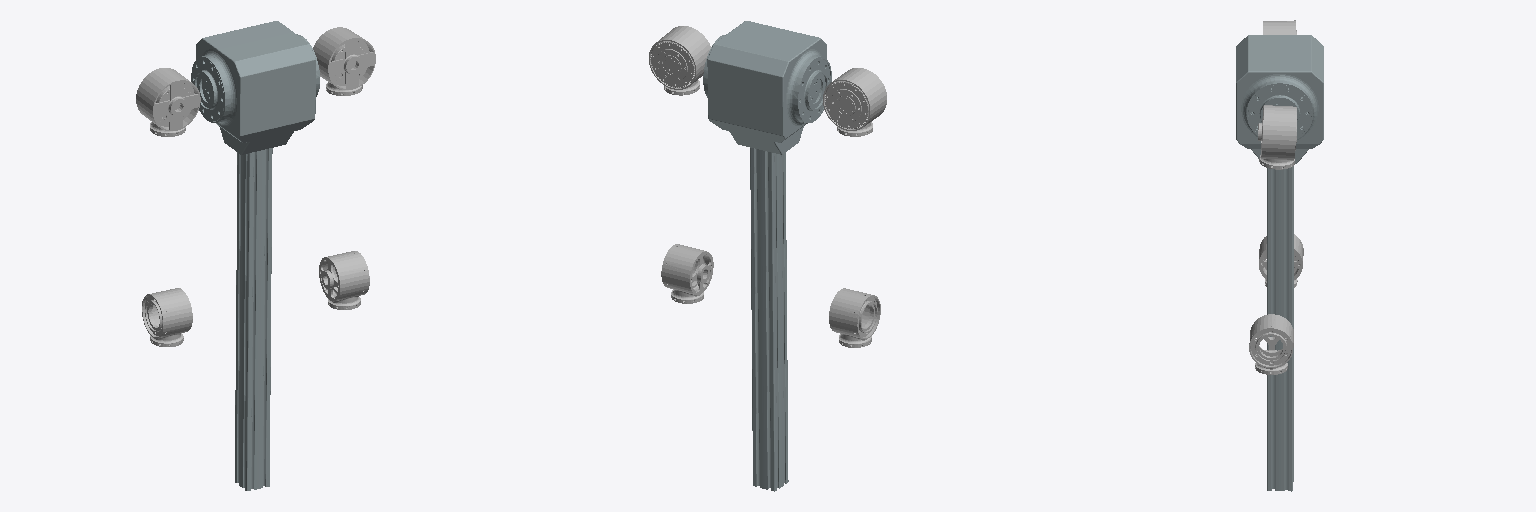
robot.urdf — arha_description:
<?xml version="1.0" encoding="utf-8"?>
<!-- This URDF was automatically created by SolidWorks to URDF Exporter! Originally created by [author] ([email redacted]) 
     Commit Version: 1.6.0-4-g7f85cfe  Build Version: 1.6.7995.38578
     For more information, please see http://wiki.ros.org/sw_urdf_exporter -->
<robot
  name="arha_description">
  <link name="world_link"/>
  <joint name="world_joint" type="fixed">
    <parent link="world_link"/>
    <child link="base_link"/>
    <origin xyz="0 0 0" rpy="0 0 0"/>
  </joint>
  <link
    name="base_link">
    <inertial>
      <origin
        xyz="0.00486222622577581 0.45717497743252 -0.0249847706754774"
        rpy="0 0 0" />
      <mass
        value="50.0" />
      <inertia
        ixx="0.045250217381864"
        ixy="-0.000391647507311458"
        ixz="-1.16032760425876E-18"
        iyy="0.000375276048602199"
        iyz="-9.77511439648212E-18"
        izz="0.0452536352378809" />
    </inertial>
    <visual>
      <origin
        xyz="0 0 0"
        rpy="0 0 0" />
      <geometry>
        <mesh
          filename="package://arha_description/meshes/base_link.STL" />
      </geometry>
      <material
        name="">
        <color
          rgba="0.611764705882353 0.658823529411765 0.670588235294118 1" />
      </material>
    </visual>
    <collision>
      <origin
        xyz="0 0 0"
        rpy="0 0 0" />
      <geometry>
        <mesh
          filename="package://arha_description/meshes/base_link.STL" />
      </geometry>
    </collision>
  </link>
  <link
    name="chest_link">
    <inertial>
      <origin
        xyz="-0.103578651729946 -0.000788072396643393 -0.0161664731766626"
        rpy="0 0 0" />
      <mass
        value="1.36841316789851" />
      <inertia
        ixx="0.00489050738637658"
        ixy="-1.05236493836224E-06"
        ixz="3.5996291040505E-07"
        iyy="0.00618645338476801"
        iyz="9.75907806329965E-05"
        izz="0.00331113448739452" />
    </inertial>
    <visual>
      <origin
        xyz="0.0 0 0"
        rpy="0 0 0" />
      <geometry>
        <mesh
          filename="package://arha_description/meshes/chest_link.STL" />
      </geometry>
      <material
        name="">
        <color
          rgba="0.611764705882353 0.658823529411765 0.670588235294118 1" />
      </material>
    </visual>
    <collision>
      <origin
        xyz="0 0 0"
        rpy="0 0 0" />
      <geometry>
        <mesh
          filename="package://arha_description/meshes/chest_link.STL" />
      </geometry>
    </collision>
  </link>
  <joint
    name="chest_joint"
    type="fixed">
    <origin
      xyz="0.11179 0.024169 0.84302"
      rpy="0 0.0087266 0" />
    <parent
      link="base_link" />
    <child
      link="chest_link" />
    <axis
      xyz="0 0 0" />
  </joint>
  <link
    name="ShoulderLU_link">
    <inertial>
      <origin
        xyz="0.000633904495236731 0.058299543463125 0.000131520562804743"
        rpy="0 0 0" />
      <mass
        value="0.437859352194871" />
      <inertia
        ixx="0.000761320903843758"
        ixy="0.00010323291028103"
        ixz="5.11545981553644E-05"
        iyy="0.000480494506076569"
        iyz="3.0858569436463E-05"
        izz="0.000607510740265925" />
    </inertial>
    <visual>
      <origin
        xyz="0 0 0"
        rpy="0 0 0" />
      <geometry>
        <mesh
          filename="package://arha_description/meshes/ShoulderLU_link.STL" />
      </geometry>
      <material
        name="">
        <color
          rgba="0.752941176470588 0.752941176470588 0.752941176470588 1" />
      </material>
    </visual>
    <collision>
      <origin
        xyz="0 0 0"
        rpy="0 0 0" />
      <geometry>
        <mesh
          filename="package://arha_description/meshes/ShoulderLU_link.STL" />
      </geometry>
    </collision>
  </link>
  <joint
    name="ShoulderLU_joint"
    type="revolute">
    <origin
      xyz="0 0 0"
      rpy="0 0.24056 -1.5708" />
    <parent
      link="chest_link" />
    <child
      link="ShoulderLU_link" />
    <axis
      xyz="0 1 0" />
    <limit
      lower="-1.5708"
      upper="1.5708"
      effort="100"
      velocity="5.235988" />
  </joint>
  <link
    name="ShoulderLD_link">
    <inertial>
      <origin
        xyz="0.0130996516559233 4.03562806224889E-05 -0.0159486004121393"
        rpy="0 0 0" />
      <mass
        value="0.121271829639387" />
      <inertia
        ixx="0.000264584076158386"
        ixy="-1.73910116146315E-07"
        ixz="2.35095880421902E-05"
        iyy="0.000215361369893302"
        iyz="2.22793553735259E-08"
        izz="0.000144313566720507" />
    </inertial>
    <visual>
      <origin
        xyz="0 0 0"
        rpy="0 0 0" />
      <geometry>
        <mesh
          filename="package://arha_description/meshes/ShoulderLD_link.STL" />
      </geometry>
      <material
        name="">
        <color
          rgba="0.752941176470588 0.752941176470588 0.752941176470588 1" />
      </material>
    </visual>
    <collision>
      <origin
        xyz="0 0 0"
        rpy="0 0 0" />
      <geometry>
        <mesh
          filename="package://arha_description/meshes/ShoulderLD_link.STL" />
      </geometry>
    </collision>
  </link>
  <joint
    name="ShoulderLD_joint"
    type="revolute">
    <origin
      xyz="0 0.086954 0"
      rpy="0.0052522 0 0.0015918" />
    <parent
      link="ShoulderLU_link" />
    <child
      link="ShoulderLD_link" />
    <axis
      xyz="0.95701 0 0.29004" />
    <limit
      lower="0"
      upper="1.5708"
      effort="60"
      velocity="4.1888" />
  </joint>
  <link
    name="ElbowLU_link">
    <inertial>
      <origin
        xyz="0.0523700637070466 0.00121630077779727 -0.165628058836482"
        rpy="0 0 0" />
      <mass
        value="0.435431174027291" />
      <inertia
        ixx="0.00116072679569384"
        ixy="8.04355925173392E-06"
        ixz="0.000205352161683031"
        iyy="0.00150791942538621"
        iyz="4.82172912105246E-07"
        izz="0.000545520164122057" />
    </inertial>
    <visual>
      <origin
        xyz="0 0 0"
        rpy="0 0 0" />
      <geometry>
        <mesh
          filename="package://arha_description/meshes/ElbowLU_link.STL" />
      </geometry>
      <material
        name="">
        <color
          rgba="0.752941176470588 0.752941176470588 0.752941176470588 1" />
      </material>
    </visual>
    <collision>
      <origin
        xyz="0 0 0"
        rpy="0 0 0" />
      <geometry>
        <mesh
          filename="package://arha_description/meshes/ElbowLU_link.STL" />
      </geometry>
    </collision>
  </link>
  <joint
    name="ElbowLU_joint"
    type="revolute">
    <origin
      xyz="0 0 0"
      rpy="0.00062146 0 -0.0020506" />
    <parent
      link="ShoulderLD_link" />
    <child
      link="ElbowLU_link" />
    <axis
      xyz="0.29004 -0.0015904 -0.95701" />
    <limit
      lower="-1.5708"
      upper="1.5708"
      effort="20"
      velocity="19.897" />
  </joint>
  <link
    name="ElbowLD_link">
    <inertial>
      <origin
        xyz="0.0150145603137214 -0.0141079237505648 -0.053785235661527"
        rpy="0 0 0" />
      <mass
        value="0.405367875717028" />
      <inertia
        ixx="0.00067624701220466"
        ixy="5.55177260579747E-06"
        ixz="6.42141098567194E-05"
        iyy="0.000879406227076063"
        iyz="4.50678130640547E-06"
        izz="0.000469982856451293" />
    </inertial>
    <visual>
      <origin
        xyz="0 0 0"
        rpy="0 0 0" />
      <geometry>
        <mesh
          filename="package://arha_description/meshes/ElbowLD_link.STL" />
      </geometry>
      <material
        name="">
        <color
          rgba="0.752941176470588 0.752941176470588 0.752941176470588 1" />
      </material>
    </visual>
    <collision>
      <origin
        xyz="0 0 0"
        rpy="0 0 0" />
      <geometry>
        <mesh
          filename="package://arha_description/meshes/ElbowLD_link.STL" />
      </geometry>
    </collision>
  </link>
  <joint
    name="ElbowLD_joint"
    type="revolute">
    <origin
      xyz="0.075262 -0.00045791 -0.2413"
      rpy="0.0011286 0.042027 0.00029402" />
    <parent
      link="ElbowLU_link" />
    <child
      link="ElbowLD_link" />
    <axis
      xyz="0.026692 0.99962 0.0064283" />
    <limit
      lower="-1.5708"
      upper="0"
      effort="60"
      velocity="4.1888" />
  </joint>
  <link
    name="WristLU_link">
    <inertial>
      <origin
        xyz="0.00639011818127691 0.000136393365235563 0.0551589170384083"
        rpy="0 0 0" />
      <mass
        value="0.348222374397224" />
      <inertia
        ixx="0.000507501720144092"
        ixy="1.11372011938532E-07"
        ixz="-9.14391421597536E-05"
        iyy="0.000436522295309841"
        iyz="3.98574321726627E-07"
        izz="0.00026692664813503" />
    </inertial>
    <visual>
      <origin
        xyz="0 0 0"
        rpy="0 0 0" />
      <geometry>
        <mesh
          filename="package://arha_description/meshes/WristLU_link.STL" />
      </geometry>
      <material
        name="">
        <color
          rgba="0.752941176470588 0.752941176470588 0.752941176470588 1" />
      </material>
    </visual>
    <collision>
      <origin
        xyz="0 0 0"
        rpy="0 0 0" />
      <geometry>
        <mesh
          filename="package://arha_description/meshes/WristLU_link.STL" />
      </geometry>
    </collision>
  </link>
  <joint
    name="WristLU_joint"
    type="revolute">
    <origin
      xyz="0.033161 -0.0056591 -0.11391"
      rpy="2.8571 -0.0068914 1.5425" />
    <parent
      link="ElbowLD_link" />
    <child
      link="WristLU_link" />
    <axis
      xyz="0 0 1" />
    <limit
      lower="-1.5708"
      upper="1.5708"
      effort="20"
      velocity="19.897" />
  </joint>
  <link
    name="WristLD_link">
    <inertial>
      <origin
        xyz="-0.000789165657556684 0.000668276784951023 0.0143918198387223"
        rpy="0 0 0" />
      <mass
        value="0.144157848422193" />
      <inertia
        ixx="0.0002107185858156"
        ixy="-6.96875325623027E-07"
        ixz="-1.50110185661794E-05"
        iyy="0.000173165669857294"
        iyz="-2.62309617895709E-06"
        izz="0.000116799342666003" />
    </inertial>
    <visual>
      <origin
        xyz="0 0 0"
        rpy="0 0 0" />
      <geometry>
        <mesh
          filename="package://arha_description/meshes/WristLD_link.STL" />
      </geometry>
      <material
        name="">
        <color
          rgba="0.752941176470588 0.752941176470588 0.752941176470588 1" />
      </material>
    </visual>
    <collision>
      <origin
        xyz="0 0 0"
        rpy="0 0 0" />
      <geometry>
        <mesh
          filename="package://arha_description/meshes/WristLD_link.STL" />
      </geometry>
    </collision>
  </link>
  <joint
    name="WristLD_joint"
    type="revolute">
    <origin
      xyz="0 0 0.075065"
      rpy="0.036631 0 0" />
    <parent
      link="WristLU_link" />
    <child
      link="WristLD_link" />
    <axis
      xyz="1 0 0" />
    <limit
      lower="-1.5708"
      upper="1.5708"
      effort="8"
      velocity="32.463124" />
  </joint>
  <link
    name="ShoulderRU_link">
    <inertial>
      <origin
        xyz="0.000633904463091112 0.0632876622043777 0.000131520545503583"
        rpy="0 0 0" />
      <mass
        value="0.437859351944568" />
      <inertia
        ixx="0.000761320903037865"
        ixy="0.00010323291048724"
        ixz="5.11545980849188E-05"
        iyy="0.000480494505765443"
        iyz="3.08585694704881E-05"
        izz="0.000607510739616738" />
    </inertial>
    <visual>
      <origin
        xyz="0 0 0"
        rpy="0 0 0" />
      <geometry>
        <mesh
          filename="package://arha_description/meshes/ShoulderRU_link.STL" />
      </geometry>
      <material
        name="">
        <color
          rgba="0.752941176470588 0.752941176470588 0.752941176470588 1" />
      </material>
    </visual>
    <collision>
      <origin
        xyz="0 0 0"
        rpy="0 0 0" />
      <geometry>
        <mesh
          filename="package://arha_description/meshes/ShoulderRU_link.STL" />
      </geometry>
    </collision>
  </link>
  <joint
    name="ShoulderRU_joint"
    type="revolute">
    <origin
      xyz="-0.20263 0.0018367 0"
      rpy="3.1416 -0.28499 -1.5708" />
    <parent
      link="chest_link" />
    <child
      link="ShoulderRU_link" />
    <axis
      xyz="0 1 0" />
    <limit
      lower="-1.5708"
      upper="1.5708"
      effort="100"
      velocity="5.235988" />
  </joint>
  <link
    name="ShoulderRD_link">
    <inertial>
      <origin
        xyz="0.0130603185121422 4.03570967780209E-05 -0.0159605216469788"
        rpy="0 0 0" />
      <mass
        value="0.121271833885802" />
      <inertia
        ixx="0.000264584071728155"
        ixy="-1.73910560956384E-07"
        ixz="2.35095904760613E-05"
        iyy="0.0002153613724785"
        iyz="2.22817405287246E-08"
        izz="0.000144313566137142" />
    </inertial>
    <visual>
      <origin
        xyz="0 0 0"
        rpy="0 0 0" />
      <geometry>
        <mesh
          filename="package://arha_description/meshes/ShoulderRD_link.STL" />
      </geometry>
      <material
        name="">
        <color
          rgba="0.752941176470588 0.752941176470588 0.752941176470588 1" />
      </material>
    </visual>
    <collision>
      <origin
        xyz="0 0 0"
        rpy="0 0 0" />
      <geometry>
        <mesh
          filename="package://arha_description/meshes/ShoulderRD_link.STL" />
      </geometry>
    </collision>
  </link>
  <joint
    name="ShoulderRD_joint"
    type="revolute">
    <origin
      xyz="0 0.091943 0"
      rpy="3.1389 -0.58853 0.00081251" />
    <parent
      link="ShoulderRU_link" />
    <child
      link="ShoulderRD_link" />
    <axis
      xyz="0.95701 0 0.29004" />
    <limit
      lower="-1.5708"
      upper="0"
      effort="60"
      velocity="4.1888" />
  </joint>
  <link
    name="ElbowRU_link">
    <inertial>
      <origin
        xyz="0.056819807604414 0.00130441079169116 -0.161248980507902"
        rpy="0 0 0" />
      <mass
        value="0.43543149660162" />
      <inertia
        ixx="0.00116072652976023"
        ixy="8.04351173911062E-06"
        ixz="0.000205352258430429"
        iyy="0.00150791924798473"
        iyz="4.82193415065212E-07"
        izz="0.000545520215244939" />
    </inertial>
    <visual>
      <origin
        xyz="0 0 0"
        rpy="0 0 0" />
      <geometry>
        <mesh
          filename="package://arha_description/meshes/ElbowRU_link.STL" />
      </geometry>
      <material
        name="">
        <color
          rgba="0.752941176470588 0.752941176470588 0.752941176470588 1" />
      </material>
    </visual>
    <collision>
      <origin
        xyz="0 0 0"
        rpy="0 0 0" />
      <geometry>
        <mesh
          filename="package://arha_description/meshes/ElbowRU_link.STL" />
      </geometry>
    </collision>
  </link>
  <joint
    name="ElbowRU_joint"
    type="revolute">
    <origin
      xyz="0.01 0 0"
      rpy="-0.00017185 0.58853 3.1301" />
    <parent
      link="ShoulderRD_link" />
    <child
      link="ElbowRU_link" />
    <axis
      xyz="0.29004 -0.0015904 -0.95701" />
    <limit
      lower="-1.5708"
      upper="1.5708"
      effort="20"
      velocity="19.897" />
  </joint>
  <link
    name="ElbowRD_link">
    <inertial>
      <origin
        xyz="0.01501721253576 -0.0140086375733101 -0.0537845978405951"
        rpy="0 0 0" />
      <mass
        value="0.405367838897484" />
      <inertia
        ixx="0.000676246989908249"
        ixy="5.55176945002612E-06"
        ixz="6.42141075201969E-05"
        iyy="0.0008794061843227"
        iyz="4.50678755869984E-06"
        izz="0.000469982837398396" />
    </inertial>
    <visual>
      <origin
        xyz="0 0 0"
        rpy="0 0 0" />
      <geometry>
        <mesh
          filename="package://arha_description/meshes/ElbowRD_link.STL" />
      </geometry>
      <material
        name="">
        <color
          rgba="0.752941176470588 0.752941176470588 0.752941176470588 1" />
      </material>
    </visual>
    <collision>
      <origin
        xyz="0 0 0"
        rpy="0 0 0" />
      <geometry>
        <mesh
          filename="package://arha_description/meshes/ElbowRD_link.STL" />
      </geometry>
    </collision>
  </link>
  <joint
    name="ElbowRD_joint"
    type="revolute">
    <origin
      xyz="0.079705 -0.00060472 -0.23692"
      rpy="-4.9565E-05 -0.0018566 -1.1893E-05" />
    <parent
      link="ElbowRU_link" />
    <child
      link="ElbowRD_link" />
    <axis
      xyz="0.026692 0.99962 0.0064283" />
    <limit
      lower="0"
      upper="1.5708"
      effort="60"
      velocity="4.1888" />
  </joint>
  <link
    name="WristRU_link">
    <inertial>
      <origin
        xyz="0.00639012254804167 0.000136393641995469 0.0563198944392286"
        rpy="0 0 0" />
      <mass
        value="0.348222354843636" />
      <inertia
        ixx="0.000507501702429949"
        ixy="1.11373651928209E-07"
        ixz="-9.14391354779642E-05"
        iyy="0.000436522279637755"
        iyz="3.98581053072694E-07"
        izz="0.000266926646371092" />
    </inertial>
    <visual>
      <origin
        xyz="0 0 0"
        rpy="0 0 0" />
      <geometry>
        <mesh
          filename="package://arha_description/meshes/WristRU_link.STL" />
      </geometry>
      <material
        name="">
        <color
          rgba="0.752941176470588 0.752941176470588 0.752941176470588 1" />
      </material>
    </visual>
    <collision>
      <origin
        xyz="0 0 0"
        rpy="0 0 0" />
      <geometry>
        <mesh
          filename="package://arha_description/meshes/WristRU_link.STL" />
      </geometry>
    </collision>
  </link>
  <joint
    name="WristRU_joint"
    type="revolute">
    <origin
      xyz="0.032837 -0.0055583 -0.1128"
      rpy="2.8571 -0.002299 1.5582" />
    <parent
      link="ElbowRD_link" />
    <child
      link="WristRU_link" />
    <axis
      xyz="0 0 1" />
    <limit
      lower="-1.5708"
      upper="1.5708"
      effort="20"
      velocity="19.897" />
  </joint>
  <link
    name="WristRD_link">
    <inertial>
      <origin
        xyz="-0.0007891665998703 0.000668277029161484 0.0143918184359768"
        rpy="0 0 0" />
      <mass
        value="0.144157843696757" />
      <inertia
        ixx="0.000210718602074961"
        ixy="-6.96872467093026E-07"
        ixz="-1.50110128749547E-05"
        iyy="0.000173165649110249"
        iyz="-2.62309383761537E-06"
        izz="0.000116799346279209" />
    </inertial>
    <visual>
      <origin
        xyz="0 0 0"
        rpy="0 0 0" />
      <geometry>
        <mesh
          filename="package://arha_description/meshes/WristRD_link.STL" />
      </geometry>
      <material
        name="">
        <color
          rgba="0.752941176470588 0.752941176470588 0.752941176470588 1" />
      </material>
    </visual>
    <collision>
      <origin
        xyz="0 0 0"
        rpy="0 0 0" />
      <geometry>
        <mesh
          filename="package://arha_description/meshes/WristRD_link.STL" />
      </geometry>
    </collision>
  </link>
  <joint
    name="WristRD_joint"
    type="revolute">
    <origin
      xyz="0 0 0.076226"
      rpy="0.047691 0 0" />
    <parent
      link="WristRU_link" />
    <child
      link="WristRD_link" />
    <axis
      xyz="1 0 0" />
    <limit
      lower="-1.5708"
      upper="1.5708"
      effort="8"
      velocity="32.463" />
  </joint>
</robot>

--- What the picture shows (computed from the rendered views, not written in the file) ---
The picture shows the robot from 3 angles, left to right: view 1: azimuth 30°, elevation 25°; view 2: azimuth 150°, elevation 25°; view 3: azimuth 270°, elevation 25°; orthographic projection.
Robot: arha_description — 15 links, 14 joints (12 revolute, 2 fixed); root link world_link; default pose: every joint at zero.
Links seen in each view (by area): view 1: chest_link, base_link, ShoulderRD_link, ShoulderLD_link, WristRD_link, WristLD_link; view 2: chest_link, base_link, ShoulderRD_link, ShoulderLD_link, WristLD_link, WristRD_link; view 3: chest_link, base_link, ShoulderLD_link, WristLD_link, WristRD_link.
Link boxes in pixels (<box>): chest_link: <box>191,21,319,154</box>; base_link: <box>235,148,272,490</box>; ShoulderRD_link: <box>136,68,200,136</box>; ShoulderLD_link: <box>313,27,375,95</box>; WristRD_link: <box>142,288,192,346</box>; WristLD_link: <box>319,251,369,309</box>; chest_link: <box>703,21,831,154</box>; base_link: <box>750,148,788,491</box>; ShoulderRD_link: <box>823,68,886,136</box>; ShoulderLD_link: <box>649,26,710,95</box>; WristLD_link: <box>661,244,713,303</box>; WristRD_link: <box>829,288,880,347</box>; chest_link: <box>1236,35,1323,163</box>; base_link: <box>1267,166,1293,491</box>; ShoulderLD_link: <box>1258,105,1296,169</box>; WristLD_link: <box>1249,314,1293,374</box>; WristRD_link: <box>1259,234,1303,287</box>.
Size in the robot's own frame: 0.486 by 0.1688 by 0.924 metres.
Meshes: 14 distinct files referenced, 6 mesh visuals loaded (6 binary STL); not drawn: 8 (reference not matched to a file when rendering).